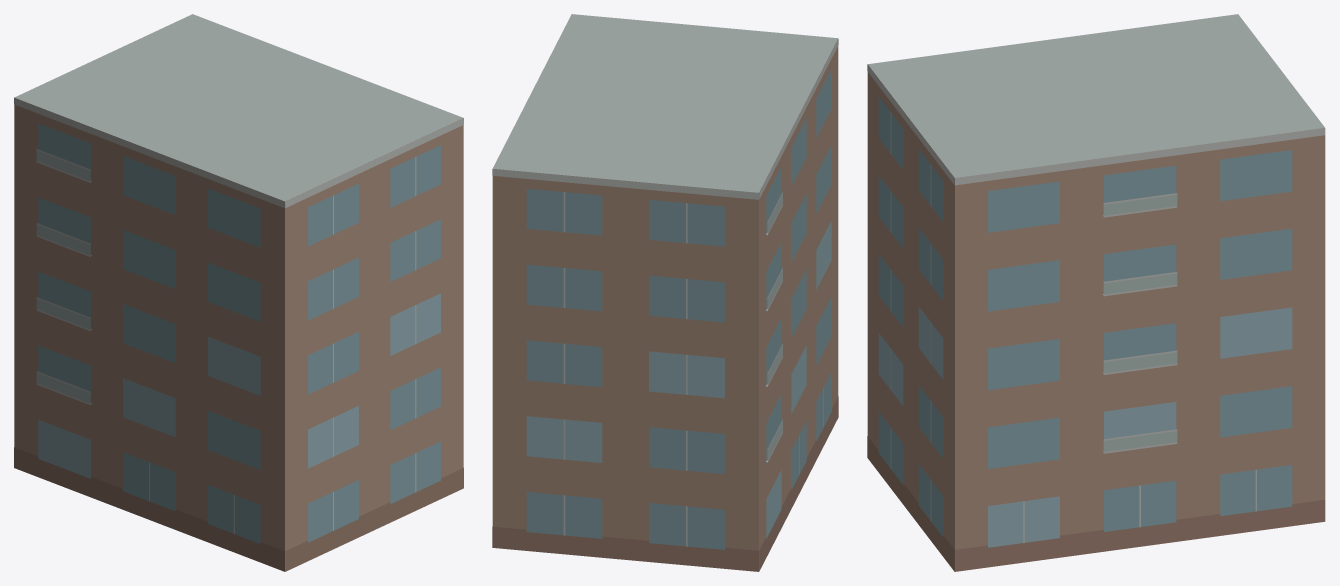
Rendered from survey-upis-32955194.glb.
3 renders of one model, left to right at view 1: azimuth 30°, elevation 25°; view 2: azimuth 150°, elevation 25°; view 3: azimuth 270°, elevation 25°, orthographic. The views are drawn at different scales.
Visible parts, largest first — view 1: survey-upis-32955194.tmp; view 2: survey-upis-32955194.tmp; view 3: survey-upis-32955194.tmp.
Part boxes in pixels (box(x1,y1,x2,y2)): survey-upis-32955194.tmp: box(14, 14, 463, 571); survey-upis-32955194.tmp: box(492, 14, 838, 571); survey-upis-32955194.tmp: box(867, 14, 1325, 571).
Bounding box in the file's own units: 11.81 × 13.2 × 13.92.
